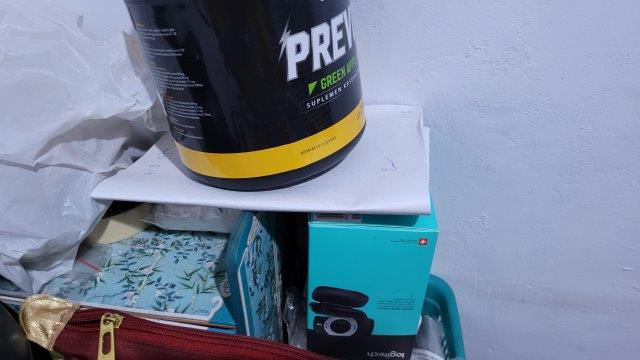kertas: (89, 104, 433, 214)
